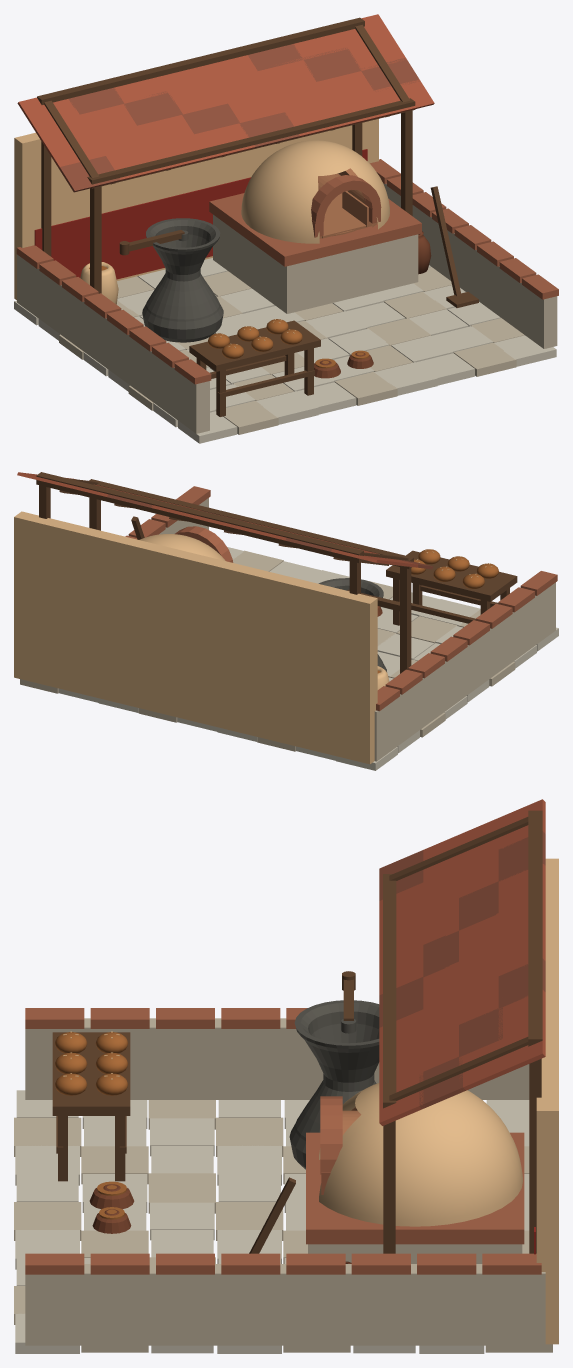
The model's file is rome_bakery_bay.glb.
3 views of the same model, one above another, from view 1: azimuth 30°, elevation 25°; view 2: azimuth 150°, elevation 25°; view 3: azimuth 270°, elevation 25° (orthographic). The views are drawn at different scales.
Parts seen in each view (by area): view 1: rome_bakery_bay; view 2: rome_bakery_bay; view 3: rome_bakery_bay.
Boxes of the visible parts, <box> form: rome_bakery_bay: <box>14,14,558,443</box>; rome_bakery_bay: <box>14,472,558,770</box>; rome_bakery_bay: <box>14,799,558,1353</box>.
Bounding box in the file's own units: 5.97 × 3.29 × 5.34.
